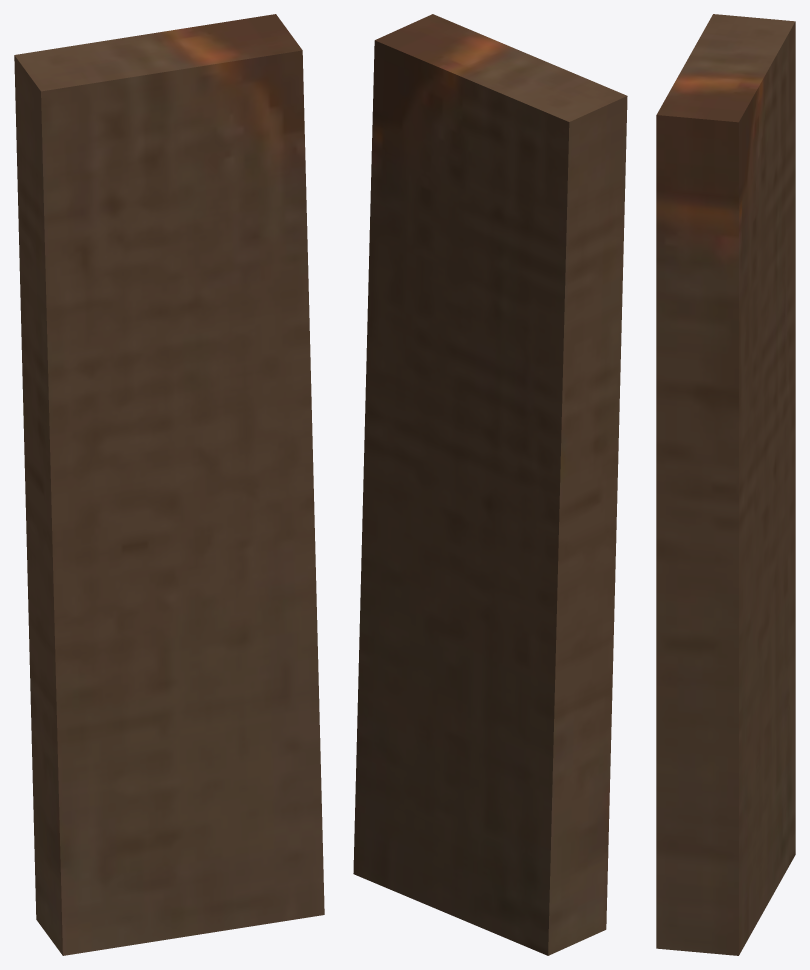
The model's file is fan_center__blade_6.glb.
3 renders of one model, left to right at view 1: azimuth 30°, elevation 25°; view 2: azimuth 150°, elevation 25°; view 3: azimuth 270°, elevation 25°, orthographic. The views are drawn at different scales.
Visible parts, largest first — view 1: geometry_0; view 2: geometry_0; view 3: geometry_0.
Boxes of the visible parts, <box> form: geometry_0: <box>14,14,324,955</box>; geometry_0: <box>353,14,627,955</box>; geometry_0: <box>656,14,795,955</box>.
Size of the model in its own units: 0.00911 by 0.0282 by 0.00428.
1 material, 1 textured.
